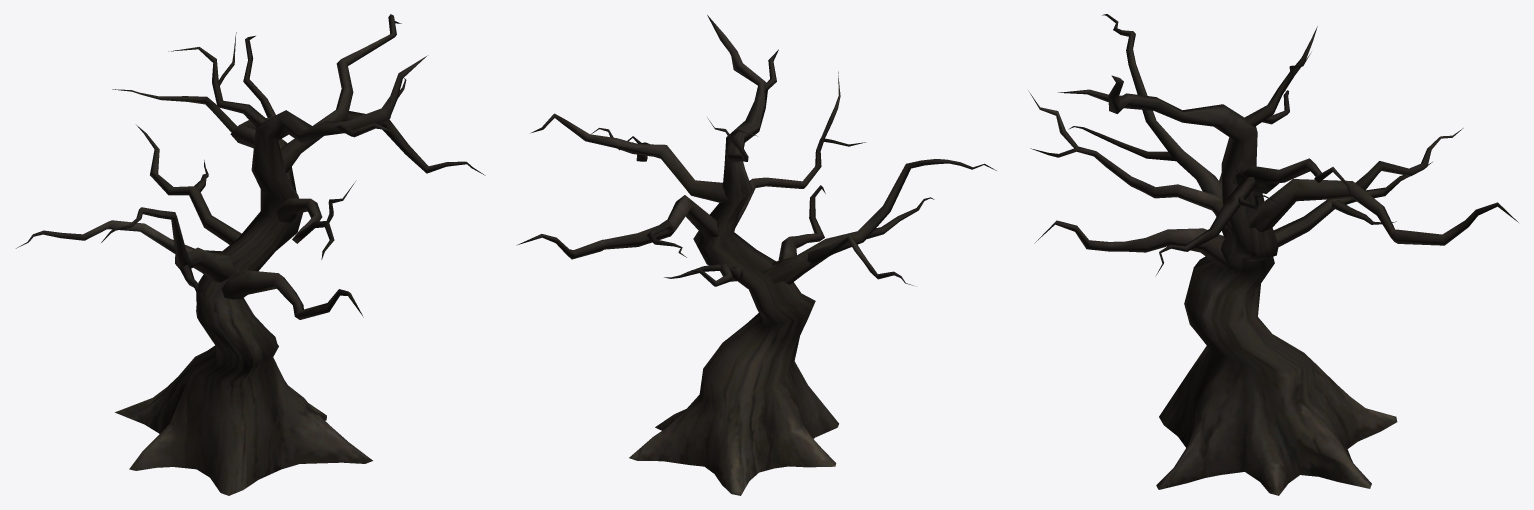
File: mesh_raid3_tree.FBX
The picture shows the model from 3 angles, left to right: view 1: azimuth 30°, elevation 25°; view 2: azimuth 150°, elevation 25°; view 3: azimuth 270°, elevation 25°; orthographic projection. The views are drawn at different scales.
Visible parts, largest first — view 1: mesh_raid3_tree; view 2: mesh_raid3_tree; view 3: mesh_raid3_tree.
Boxes of the visible parts, box(x1,y1,x2,y2) form: mesh_raid3_tree: box(16, 14, 485, 495); mesh_raid3_tree: box(516, 15, 996, 495); mesh_raid3_tree: box(1028, 14, 1518, 495).
Size of the model in its own units: 11.07 by 10.38 by 10.75.
